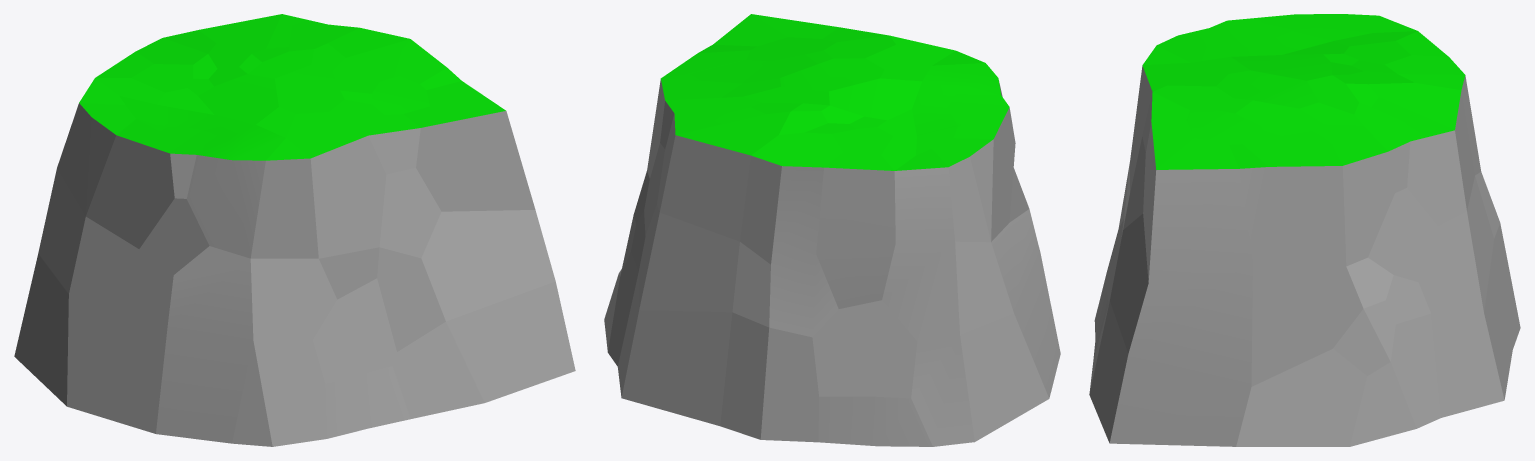
Rendered from rock_beach_big_B.fbx.
3 views of the same model, side by side, from view 1: azimuth 30°, elevation 25°; view 2: azimuth 150°, elevation 25°; view 3: azimuth 270°, elevation 25° (orthographic). The views are drawn at different scales.
Visible parts, largest first — view 1: rock_beach_big_B; view 2: rock_beach_big_B; view 3: rock_beach_big_B.
Part boxes in pixels (x1,y1,x2,y2): rock_beach_big_B: [14, 14, 575, 446]; rock_beach_big_B: [604, 14, 1060, 446]; rock_beach_big_B: [1089, 14, 1520, 446].
Size of the model in its own units: 138 by 83.28 by 122.
